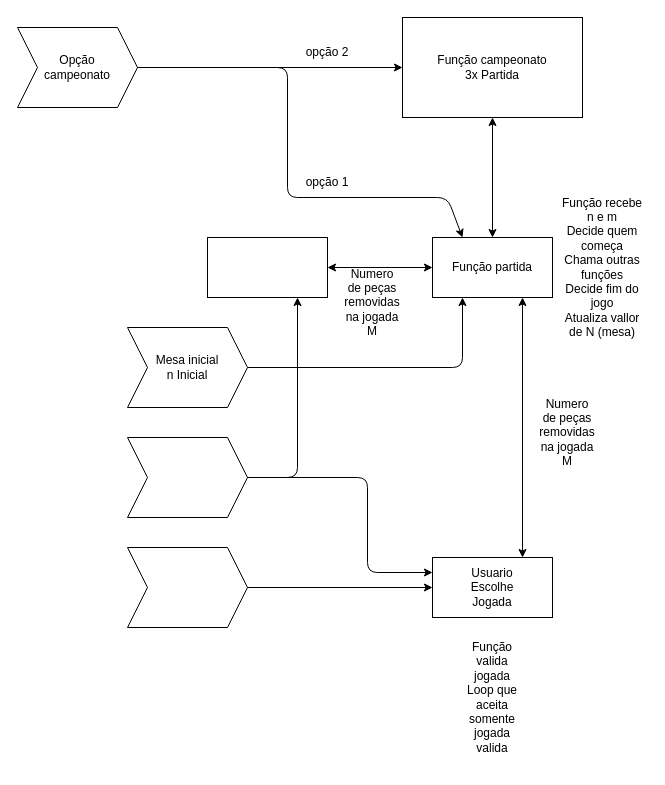
This 665x785 diagram has some shape labels left out. The centre of each missing label's shape, as x and y in pixels:
Computador Escolhe Jogada: the point at 267,267
Jogada Humana: the point at 187,587
Valor das jogadas m maximo: the point at 187,477
